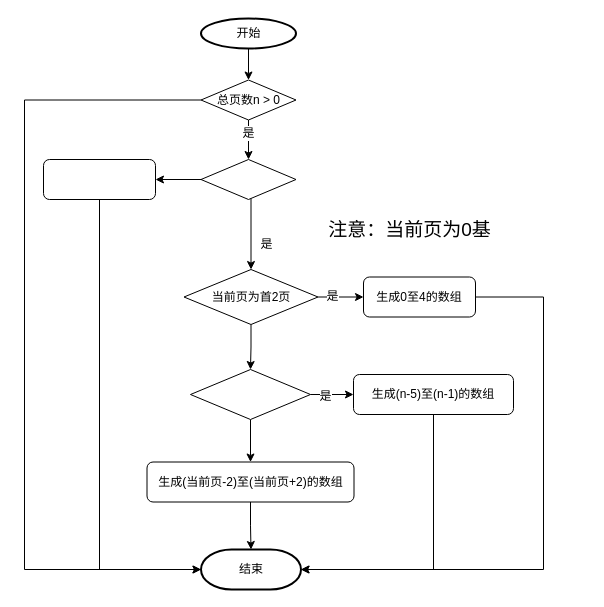
Some shapes in this 604 by 607 pixel diagram are drawn without their labels. The centre of each missing label's shape, as x and y in pixels:
当前页为尾2页: the point at 250,394
总页数n > 5: the point at 248,179
生成0至(n-1)的数组: the point at 99,179
